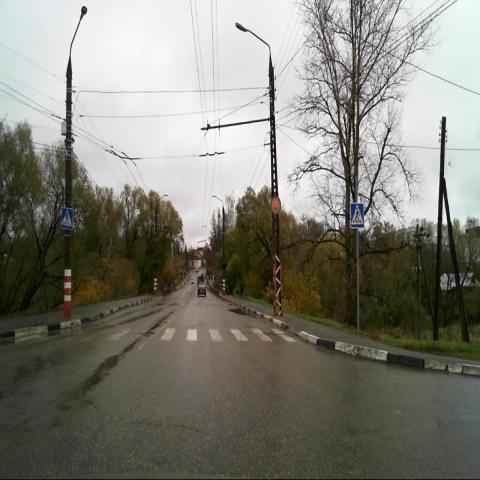3_32: (270, 195, 282, 216)
5_19_1: (350, 201, 365, 229), (61, 206, 74, 230)
